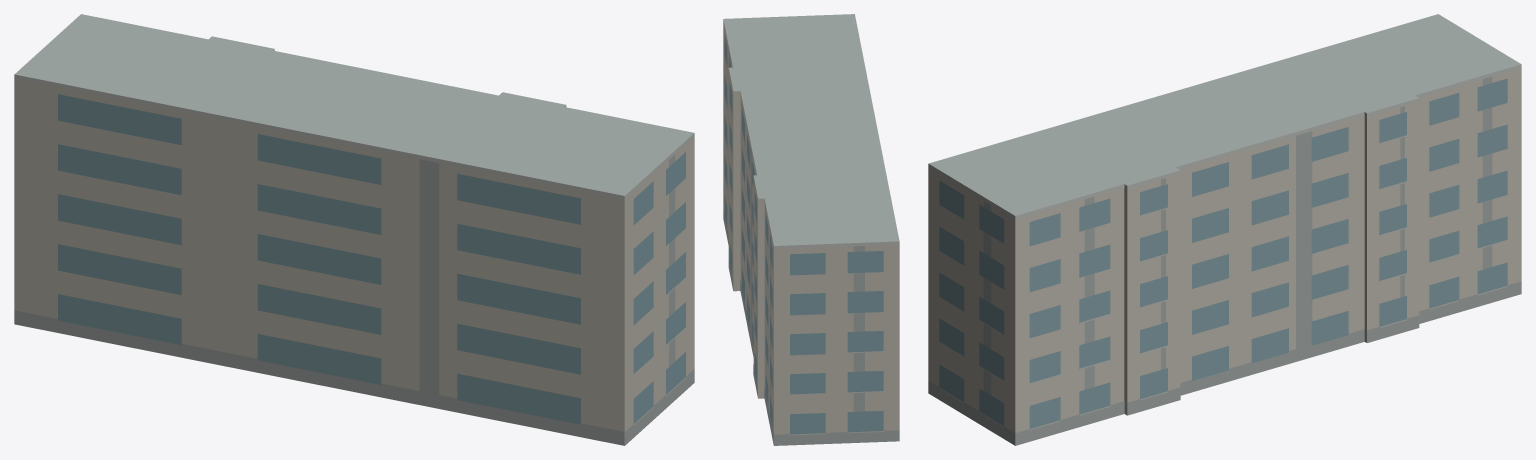
Rendered from survey-upis-33042261.glb.
The picture shows the model from 3 angles, left to right: view 1: azimuth 30°, elevation 25°; view 2: azimuth 150°, elevation 25°; view 3: azimuth 270°, elevation 25°; orthographic projection. The views are drawn at different scales.
Parts seen in each view (by area): view 1: survey-upis-33042261.tmp; view 2: survey-upis-33042261.tmp; view 3: survey-upis-33042261.tmp.
Part boxes in pixels (x1=…): survey-upis-33042261.tmp: x1=14, y1=14, x2=694, y2=445; survey-upis-33042261.tmp: x1=723, y1=14, x2=899, y2=445; survey-upis-33042261.tmp: x1=928, y1=14, x2=1521, y2=445.
Size of the model in its own units: 28.76 by 15.25 by 35.68.
